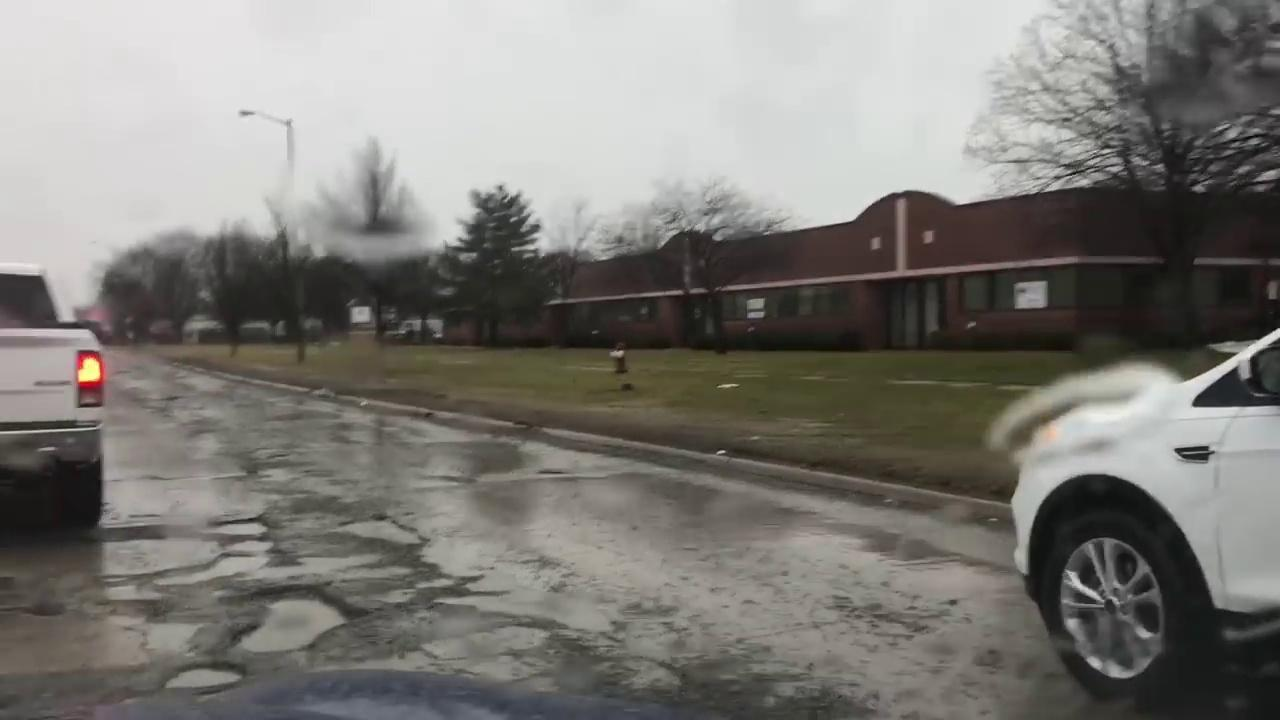pothole: (237, 599, 346, 653), (162, 553, 268, 583), (135, 622, 205, 654), (335, 519, 420, 545), (163, 667, 241, 689), (223, 540, 272, 555), (26, 597, 63, 615), (215, 522, 266, 535)
